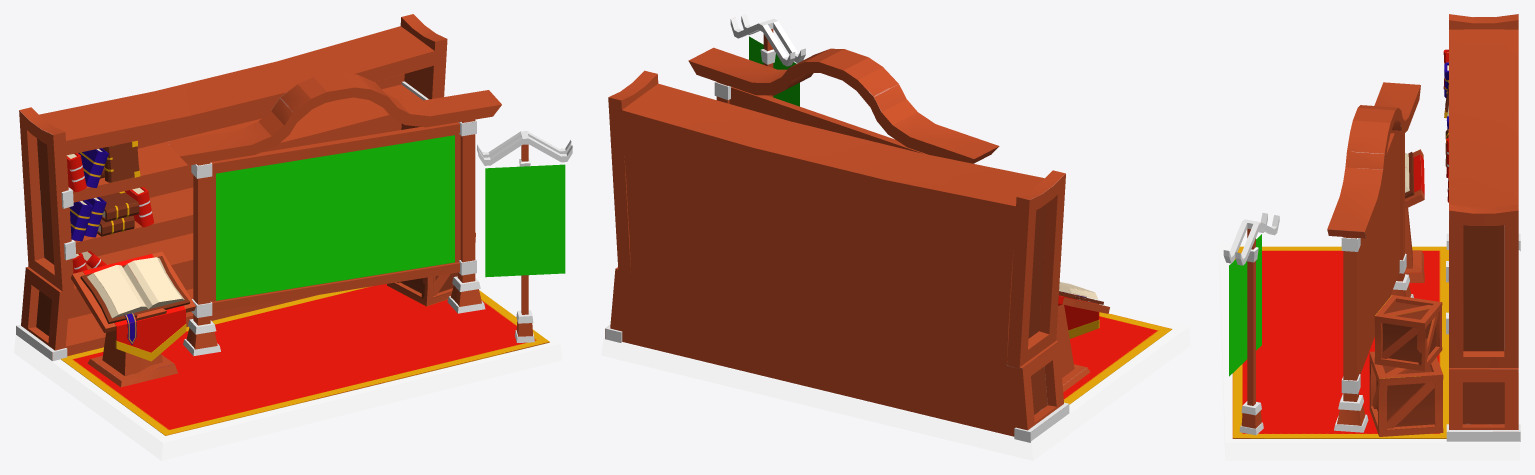
File: stan-d.glb
3 views of the same model, side by side, from view 1: azimuth 30°, elevation 25°; view 2: azimuth 150°, elevation 25°; view 3: azimuth 270°, elevation 25° (orthographic). The views are drawn at different scales.
Parts seen in each view (by area): view 1: Cube.013, PanelVideo, PanelPoster; view 2: Cube.013, PanelPoster; view 3: Cube.013, PanelPoster.
Boxes of the visible parts, x1,y1,x2,y2 form: Cube.013: (14, 14, 572, 460); PanelVideo: (216, 135, 454, 300); PanelPoster: (485, 164, 565, 277); Cube.013: (601, 14, 1190, 460); PanelPoster: (749, 36, 799, 106); Cube.013: (1219, 14, 1520, 460); PanelPoster: (1229, 234, 1261, 376).
Size of the model in its own units: 12.08 by 7.22 by 7.36.
Materials: 11 (9 with a texture image).
